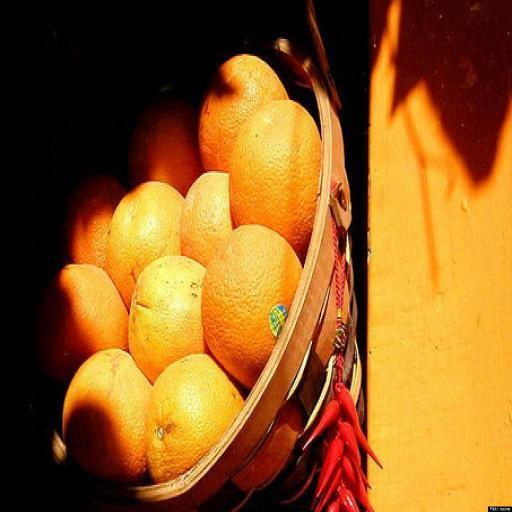orange: (202, 225, 301, 388), (230, 100, 321, 261), (146, 354, 243, 482), (198, 54, 287, 171), (106, 182, 183, 307), (129, 255, 204, 382)
